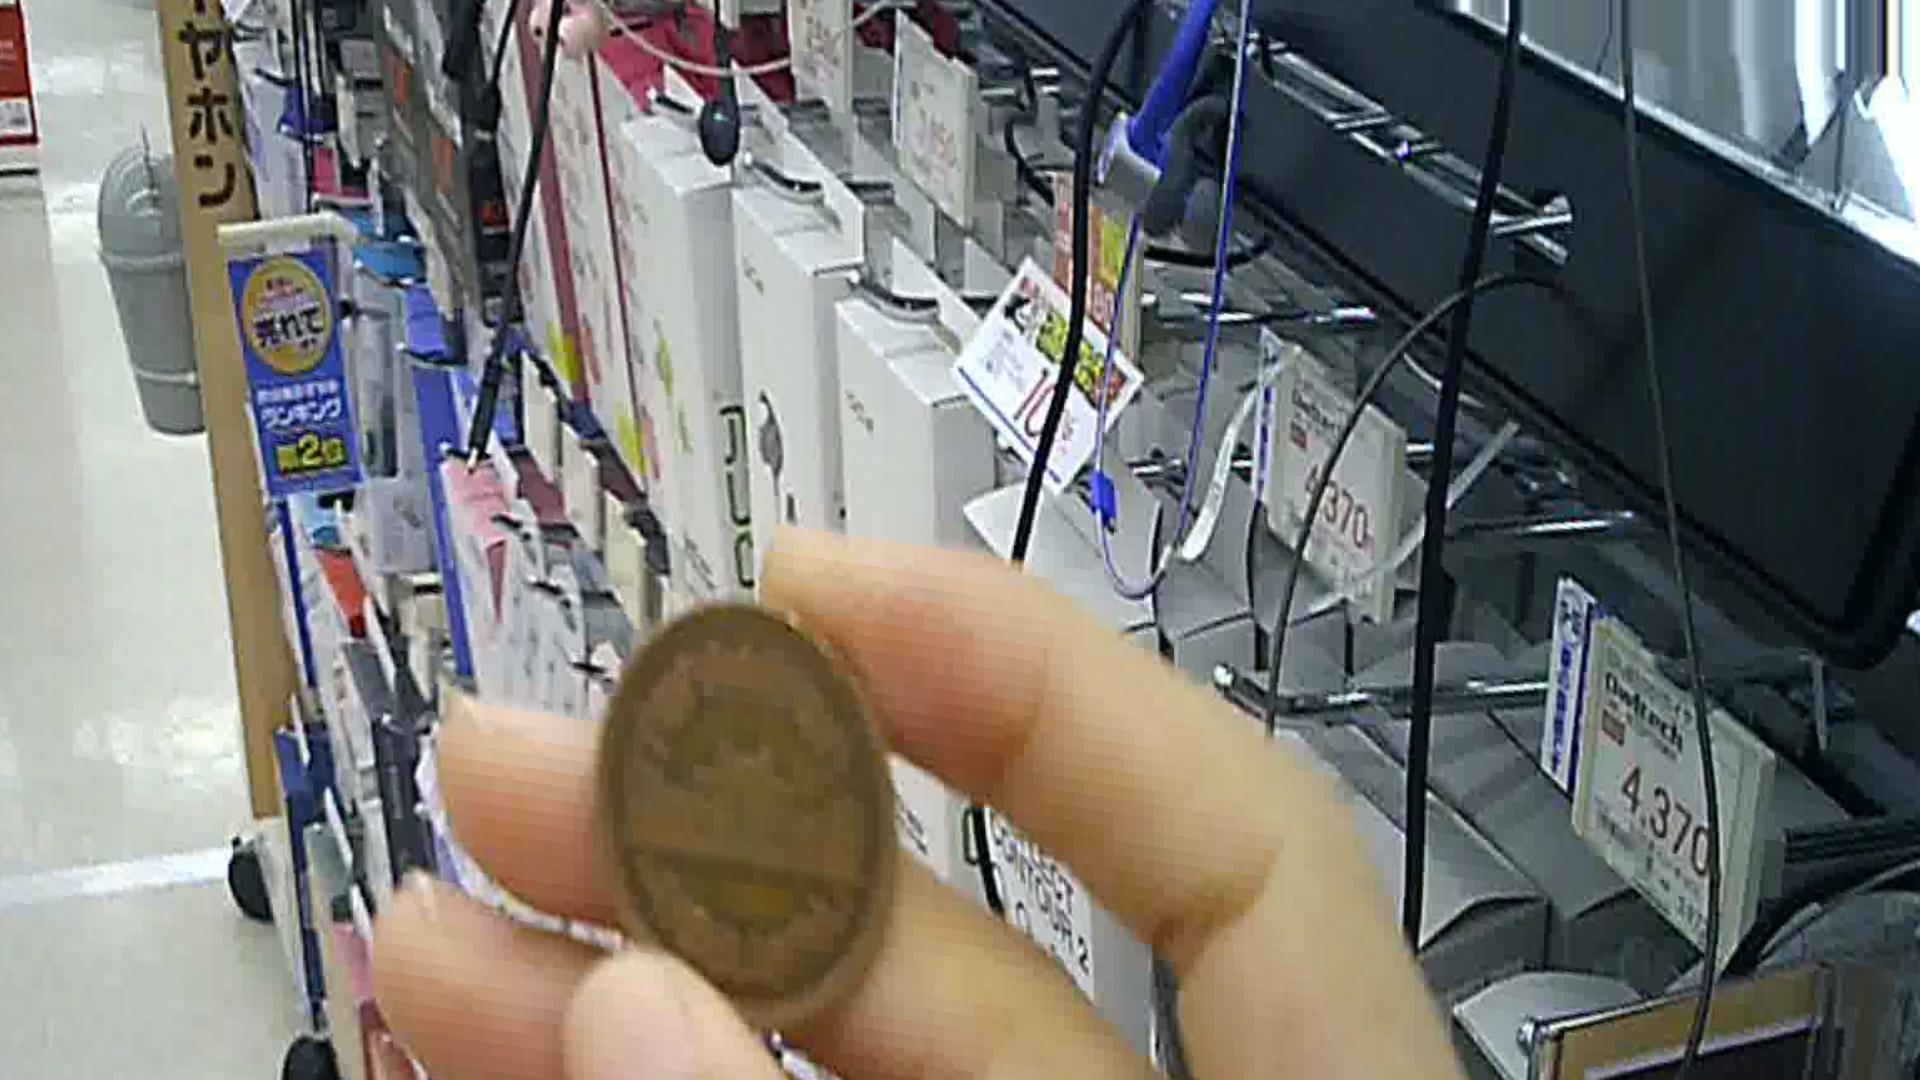10 Yen: (595, 595, 899, 1044)
